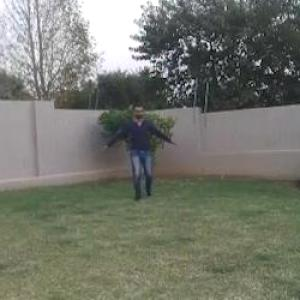land: (86, 76, 176, 220)
